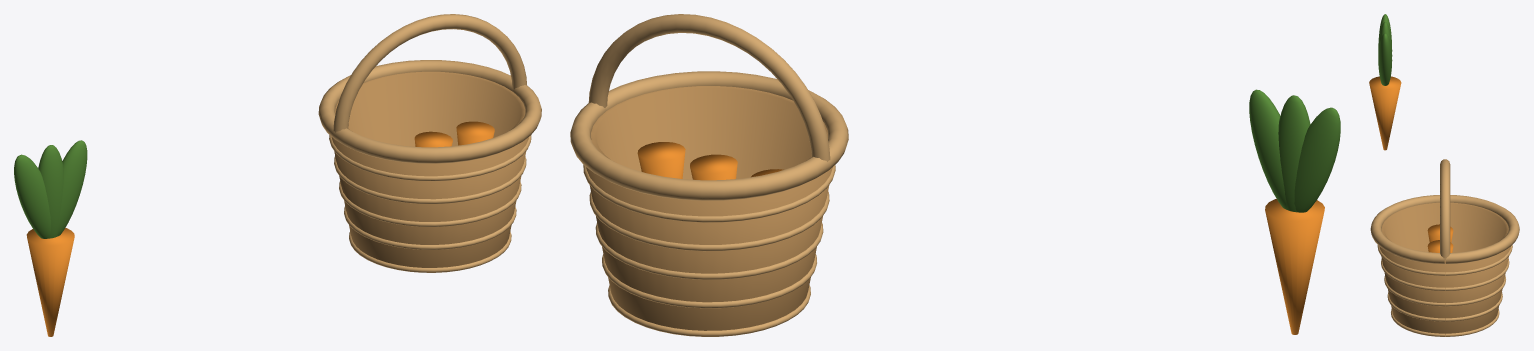
The model's file is tuinier_oogsten_gereedschap.glb.
3 views of the same model, side by side, from view 1: azimuth 30°, elevation 25°; view 2: azimuth 150°, elevation 25°; view 3: azimuth 270°, elevation 25° (orthographic). The views are drawn at different scales.
Visible parts, largest first — view 1: Basket_woven_body, Basket_rim, Basket_handle, Held_carrot, Carrot_greens, Carrot_greens.002, Carrot_greens.001, Basket_weave.004, Basket_weave.003, Basket_weave.002, Basket_weave.001, Basket_weave (+2 smaller); view 2: Basket_woven_body, Basket_rim, Basket_handle, Held_carrot, Carrot_greens, Carrot_greens.002, Carrot_greens.001, Basket_weave.004, Basket_weave.003, Basket_weave.002, Basket_weave.001, Harvested_carrot.002 (+2 smaller); view 3: Basket_woven_body, Basket_rim, Held_carrot, Basket_handle, Carrot_greens.002, Basket_weave.004, Basket_weave.003, Basket_weave.002, Basket_weave.001, Basket_weave, Harvested_carrot, Carrot_greens.001 (+2 smaller).
Part boxes in pixels (bbox=[...]): Basket_woven_body: bbox=[331, 71, 528, 267]; Basket_rim: bbox=[318, 60, 541, 163]; Basket_handle: bbox=[333, 14, 526, 132]; Held_carrot: bbox=[26, 228, 74, 336]; Carrot_greens: bbox=[14, 154, 50, 238]; Carrot_greens.002: bbox=[57, 140, 87, 236]; Carrot_greens.001: bbox=[38, 145, 63, 238]; Basket_weave.004: bbox=[329, 135, 531, 181]; Basket_weave.003: bbox=[334, 156, 526, 203]; Basket_weave.002: bbox=[339, 181, 521, 226]; Basket_weave.001: bbox=[344, 206, 516, 249]; Basket_weave: bbox=[349, 231, 511, 272]; Basket_woven_body: bbox=[586, 86, 832, 330]; Basket_rim: bbox=[570, 71, 848, 200]; Basket_handle: bbox=[588, 14, 830, 161]; Held_carrot: bbox=[1265, 199, 1324, 334]; Carrot_greens: bbox=[1294, 107, 1340, 212]; Carrot_greens.002: bbox=[1249, 89, 1286, 209]; Carrot_greens.001: bbox=[1278, 95, 1310, 212]; Basket_weave.004: bbox=[583, 165, 835, 222]; Basket_weave.003: bbox=[589, 191, 829, 251]; Basket_weave.002: bbox=[595, 223, 823, 279]; Basket_weave.001: bbox=[602, 254, 816, 308]; Harvested_carrot.002: bbox=[637, 142, 685, 178]; Basket_woven_body: bbox=[1379, 202, 1510, 334]; Basket_rim: bbox=[1370, 195, 1519, 263]; Held_carrot: bbox=[1369, 76, 1401, 150]; Basket_handle: bbox=[1440, 159, 1450, 260]; Carrot_greens.002: bbox=[1378, 33, 1392, 85]; Basket_weave.004: bbox=[1377, 245, 1512, 275]; Basket_weave.003: bbox=[1381, 259, 1509, 290]; Basket_weave.002: bbox=[1384, 275, 1505, 306]; Basket_weave.001: bbox=[1387, 292, 1502, 321]; Basket_weave: bbox=[1391, 309, 1499, 336]; Harvested_carrot: bbox=[1427, 224, 1453, 242]; Carrot_greens.001: bbox=[1378, 22, 1392, 83].
Bounding box in the file's own units: 0.9323 × 0.3688 × 0.327.
